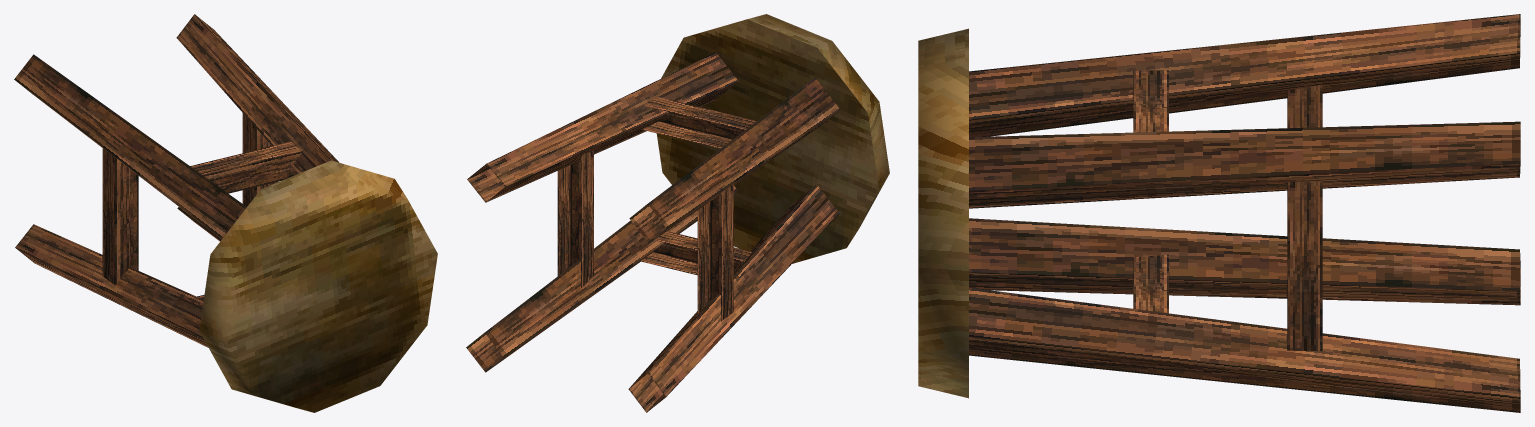
Rendered from INST_SWORDLIGHT_BARSTOOL.fbx.
3 views of the same model, side by side, from view 1: azimuth 30°, elevation 25°; view 2: azimuth 150°, elevation 25°; view 3: azimuth 270°, elevation 25° (orthographic). The views are drawn at different scales.
Visible parts, largest first — view 1: INST_SWORDLIGHT_BARSTOOL; view 2: INST_SWORDLIGHT_BARSTOOL; view 3: INST_SWORDLIGHT_BARSTOOL.
Boxes of the visible parts, box(x1,y1,x2,y2) form: INST_SWORDLIGHT_BARSTOOL: box(14, 14, 437, 412); INST_SWORDLIGHT_BARSTOOL: box(466, 14, 889, 412); INST_SWORDLIGHT_BARSTOOL: box(918, 14, 1520, 412).
Size of the model in its own units: 4603 by 4603 by 7586.
Materials: 2 (2 with a texture image).
